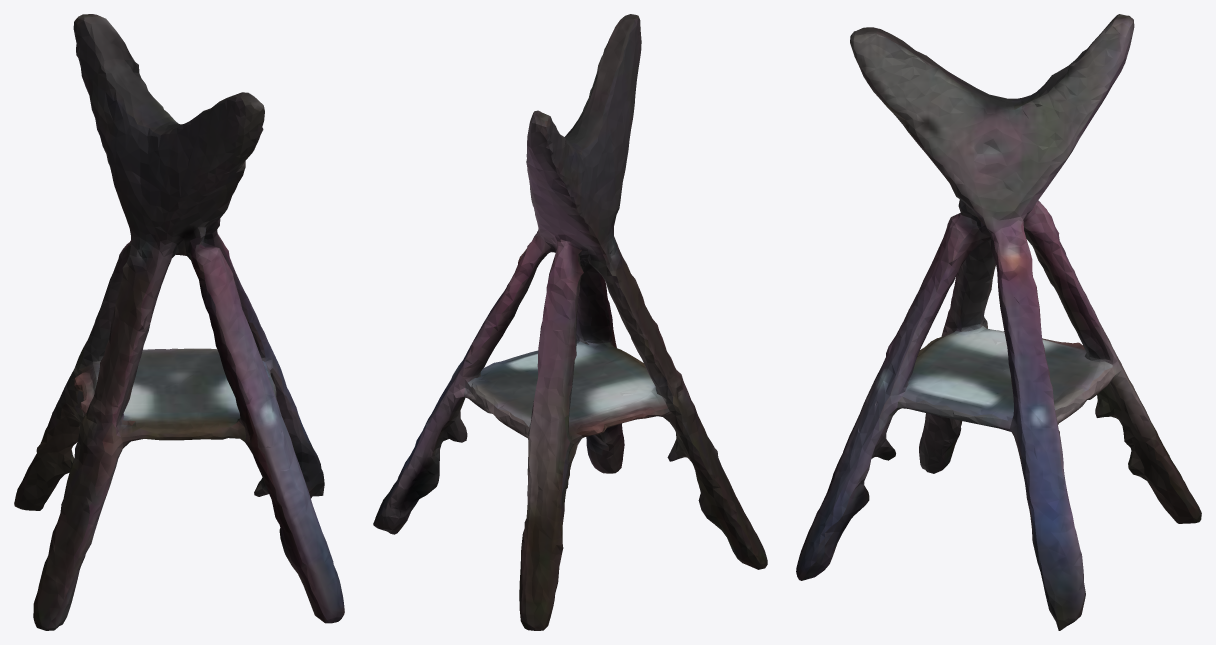
3 renders of one model, left to right at view 1: azimuth 30°, elevation 25°; view 2: azimuth 150°, elevation 25°; view 3: azimuth 270°, elevation 25°, orthographic. The views are drawn at different scales.
Parts seen in each view (by area): view 1: world; view 2: world; view 3: world.
Boxes of the visible parts, x1,y1,x2,y2 form: world: (14,14,344,630); world: (373,14,767,630); world: (796,14,1201,630).
Bounding box in the file's own units: 0.1719 × 0.2431 × 0.1712.
Materials: 1 (1 with a texture image).
